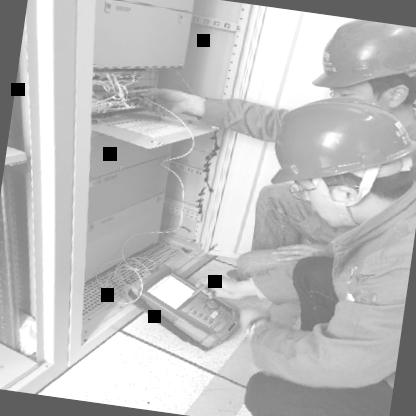helmet: (255, 73, 416, 241), (295, 12, 416, 145)
